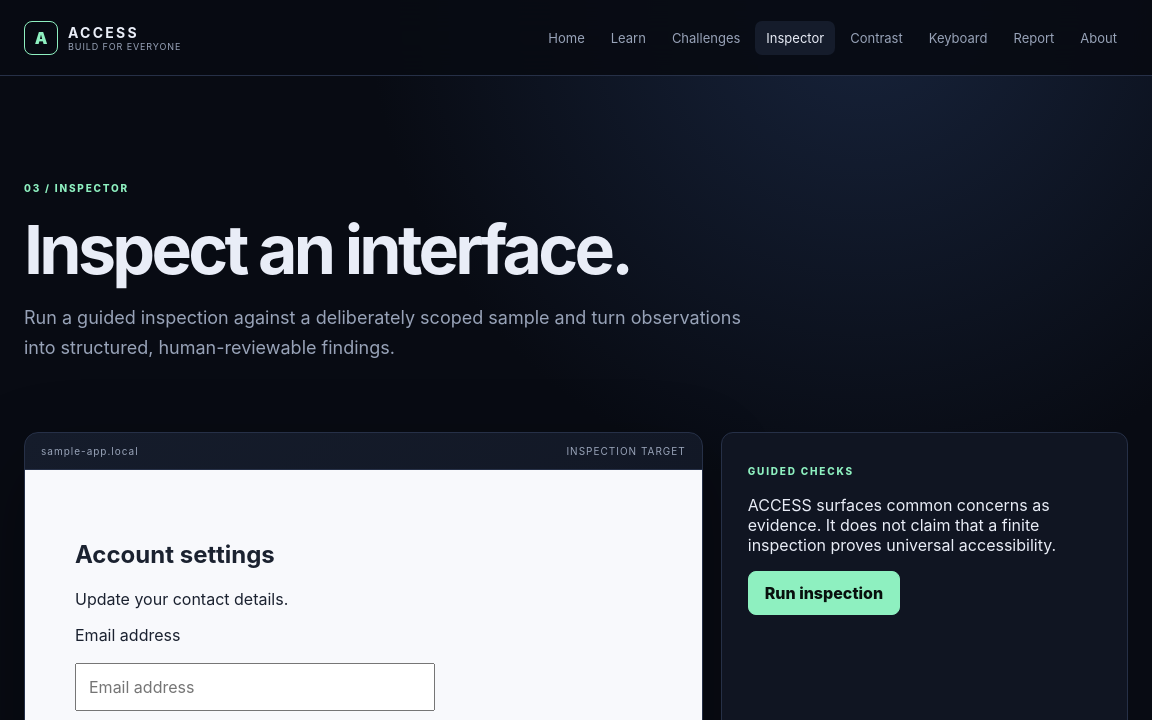
Test: ACCESS Level 2 › returns structured Inspector findings
The image size is (1152, 720).
Click the button "Run inspection".
click(824, 593)  # box [748,571,900,615]
(page scrolled)
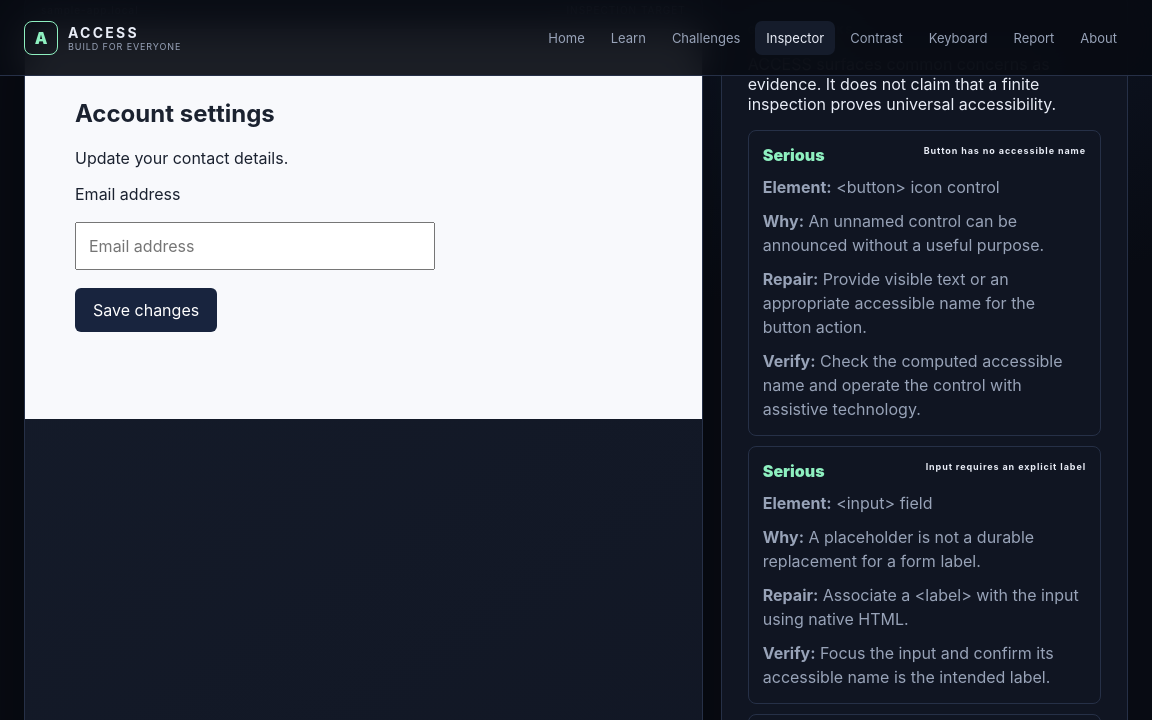
Expected: the text "Button has no accessible name" is shown, [924,145,1086,156]
Expected: the text "Element:" next to "<button> icon control" is shown, [763,177,832,197]
Expected: the text "Repair:" below "<button> icon control" is shown, [763,269,818,289]
